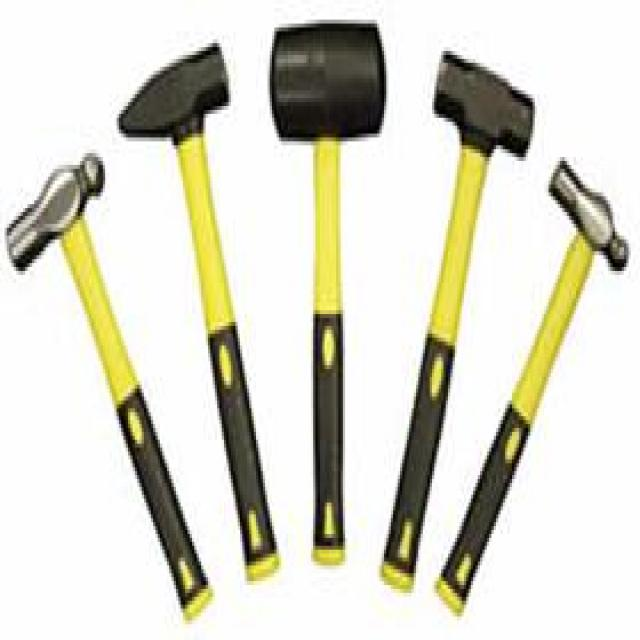Hammer: (0, 137, 224, 640), (111, 33, 292, 594), (435, 145, 637, 640), (376, 41, 542, 610), (256, 0, 395, 581)
